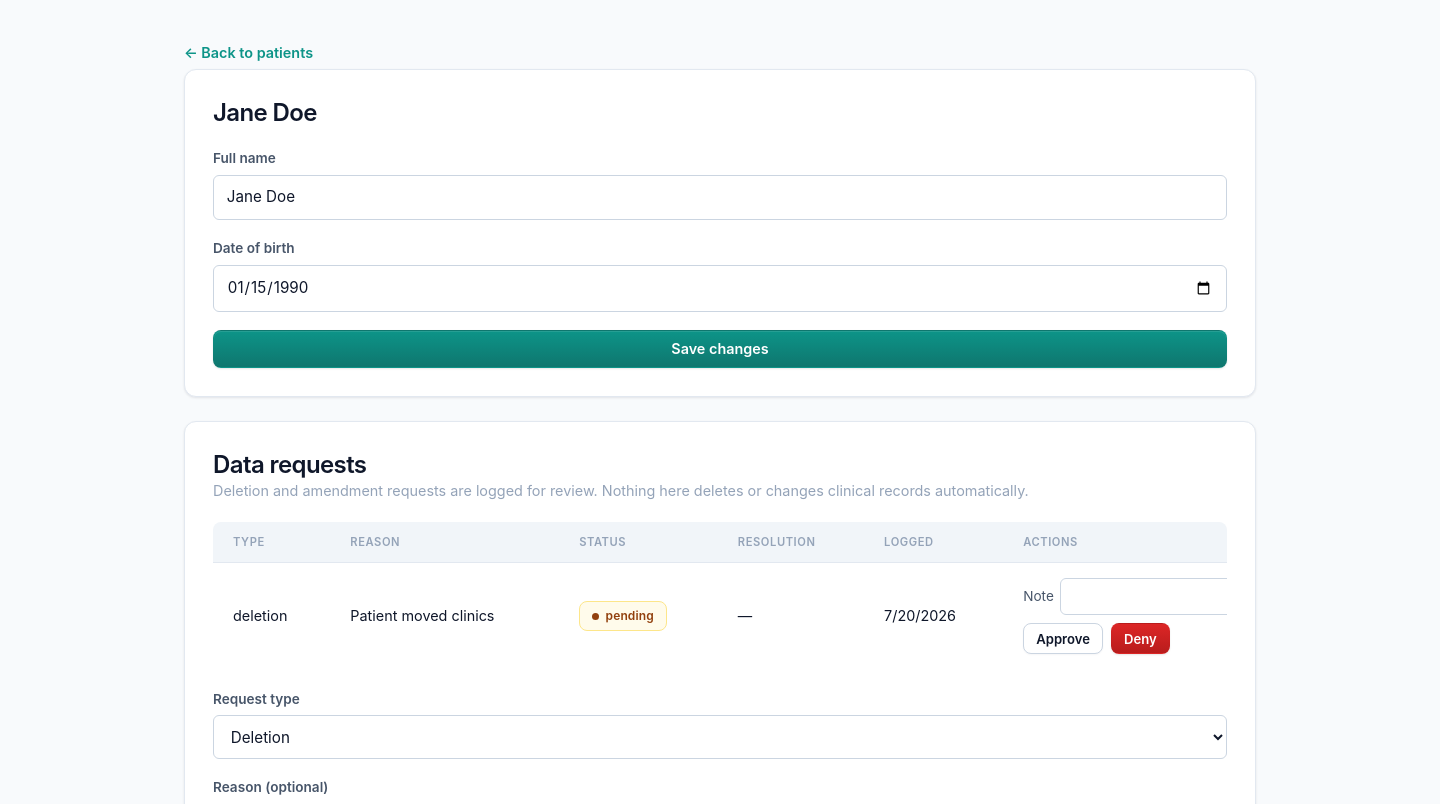
Test: PatientDetail › saves an edit and shows the Saved banner
Replace the text in the field labelled "Full name" with "Jane A. Doe" at (720, 198), box 213,175 -> 1227,220
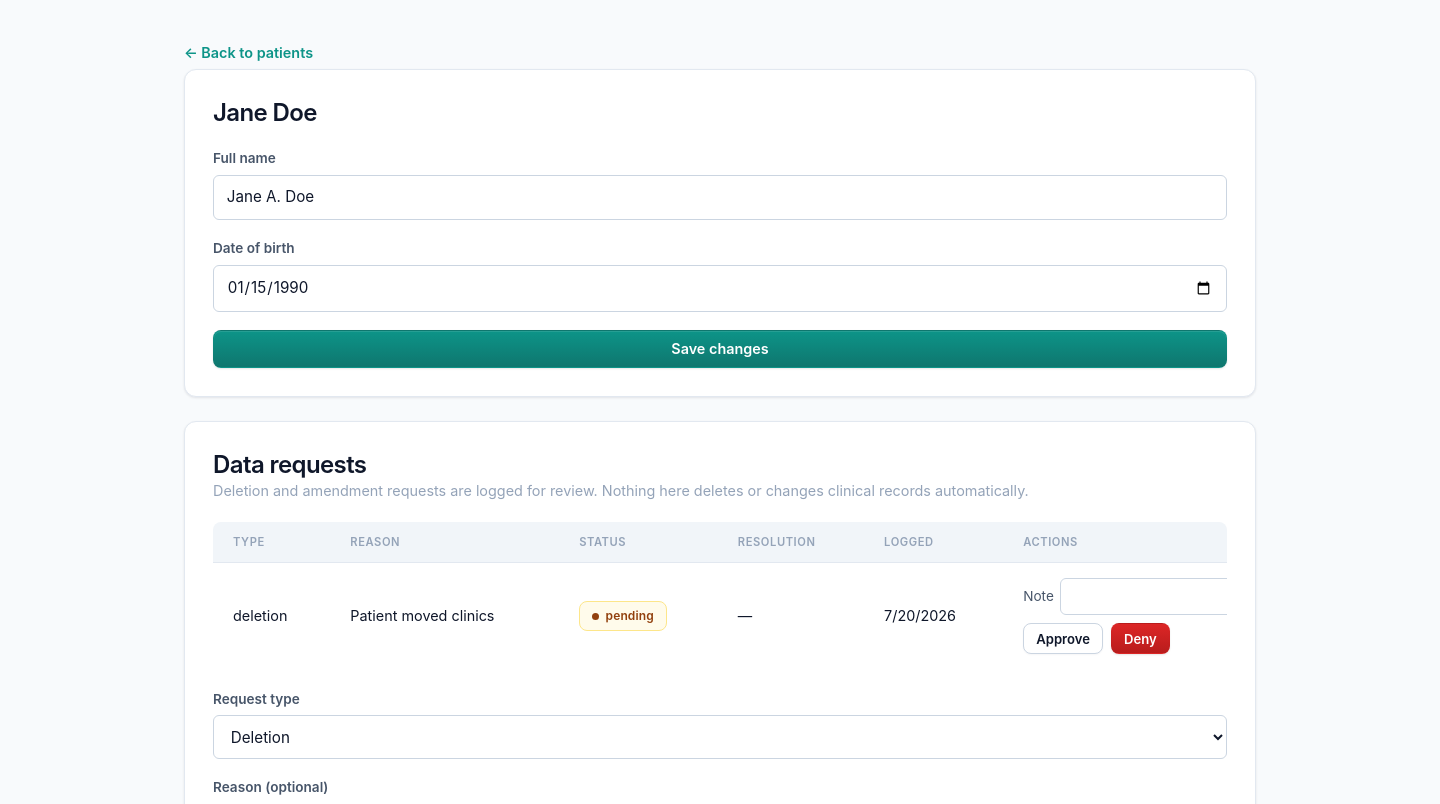
Click the button "Save changes".
click(720, 349)  # box 213,330 -> 1227,368
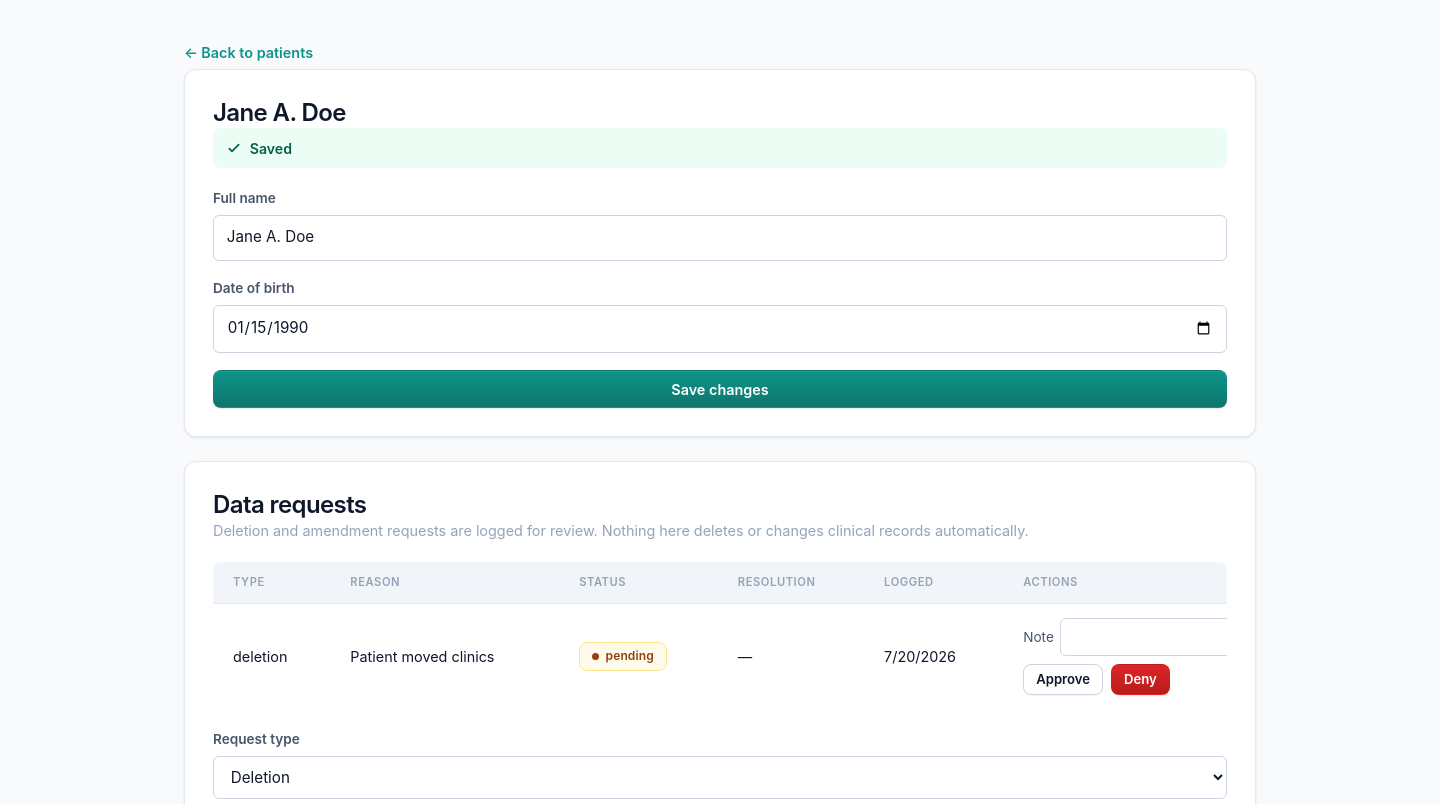
Expected: the text "Saved" is shown, 213,128 -> 1227,168
